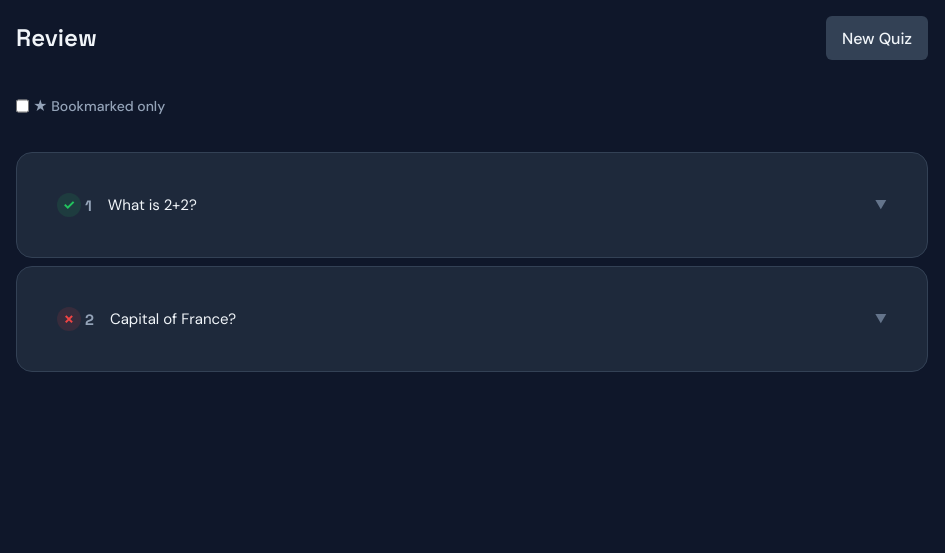
Test: ReviewView › expands question details on click
The image size is (945, 553).
Note: Click the second question header (starts collapsed)
Step 1. Click the button "✗ 2 Capital of France? ▼" → (173, 319), box [41,291,903,347]
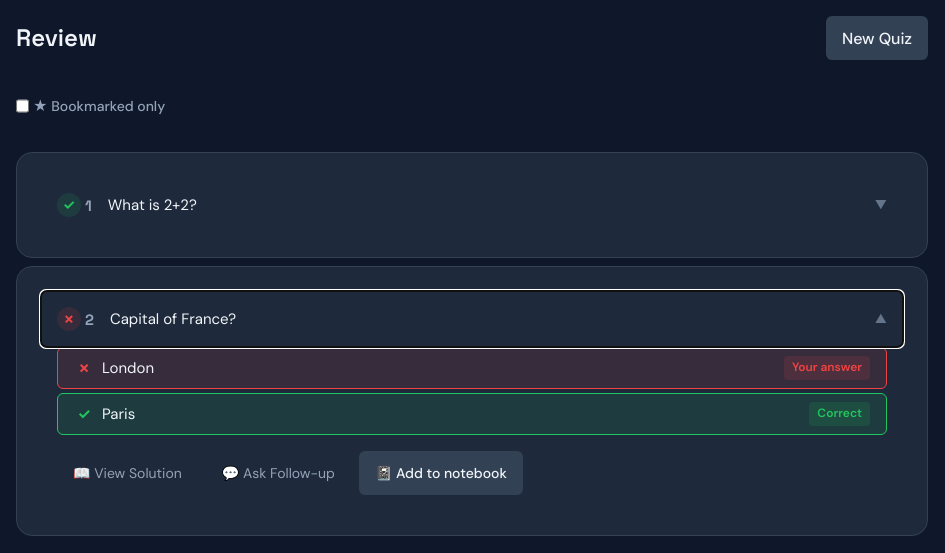
Check: the text "Your answer" is shown, box [784,356,870,380]
Check: the text "Correct" is shown, box [809,402,870,426]
